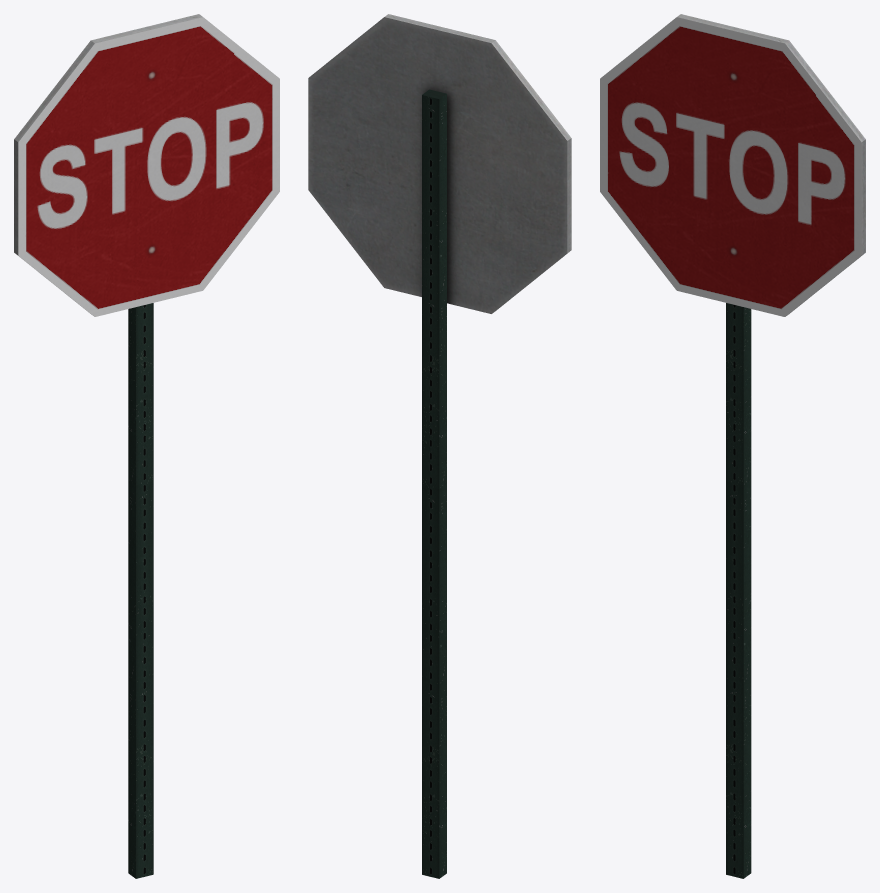
Rendered from StopSign.FBX.
The picture shows the model from 3 angles, left to right: view 1: azimuth 30°, elevation 25°; view 2: azimuth 150°, elevation 25°; view 3: azimuth 330°, elevation 25°; orthographic projection.
Parts seen in each view (by area): view 1: signstop; view 2: signstop; view 3: signstop.
Boxes of the visible parts, <box> form: signstop: <box>14,14,279,878</box>; signstop: <box>308,14,571,878</box>; signstop: <box>600,14,865,878</box>.
Bounding box in the file's own units: 0.7391 × 2.29 × 0.0579.
